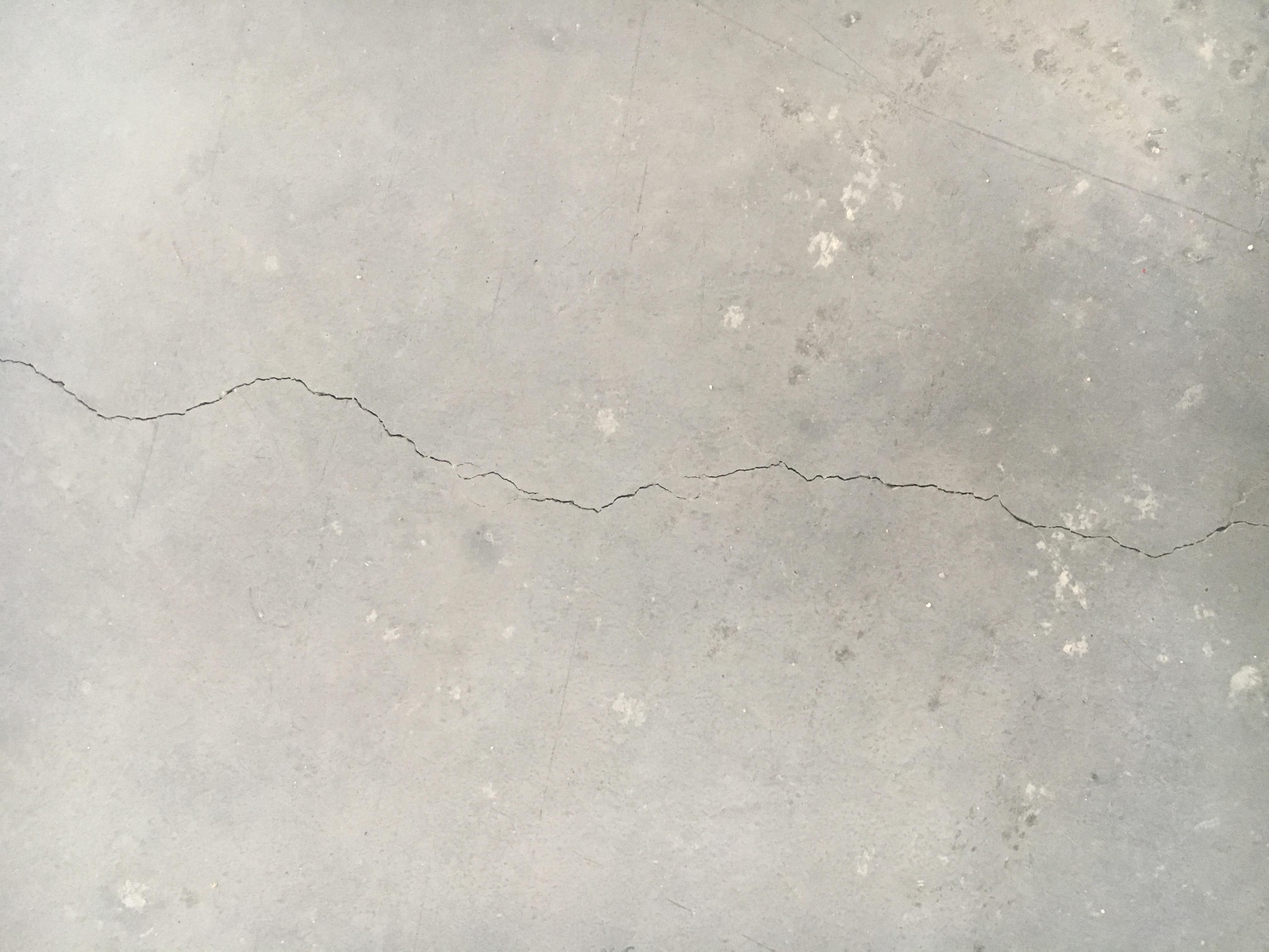Horizontal Settlement Crack: (1, 334, 1269, 576)
